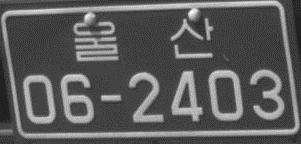-: (97, 92, 125, 105)
0: (206, 70, 245, 123), (21, 72, 57, 125)
2: (128, 70, 166, 125)
3: (248, 65, 287, 122)
4: (165, 68, 204, 123)
6: (57, 72, 95, 124)
울산_D: (70, 15, 215, 66)
